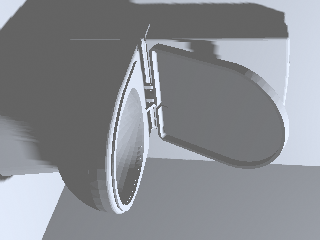lid_1: (150, 45, 288, 168)
